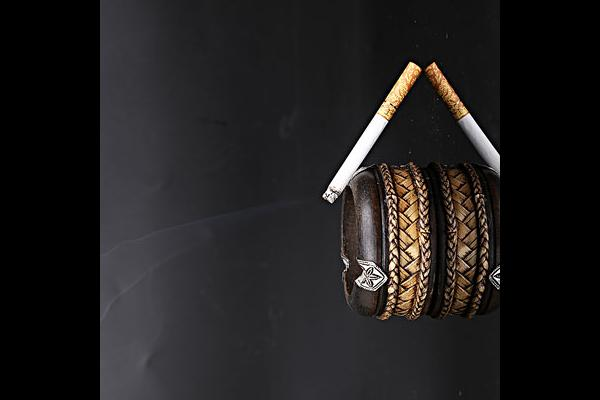Cigarette: (323, 62, 426, 204), (425, 62, 500, 174)
